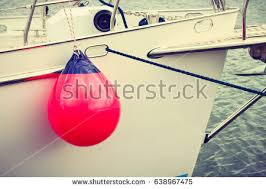buoy: (47, 73, 121, 147)
